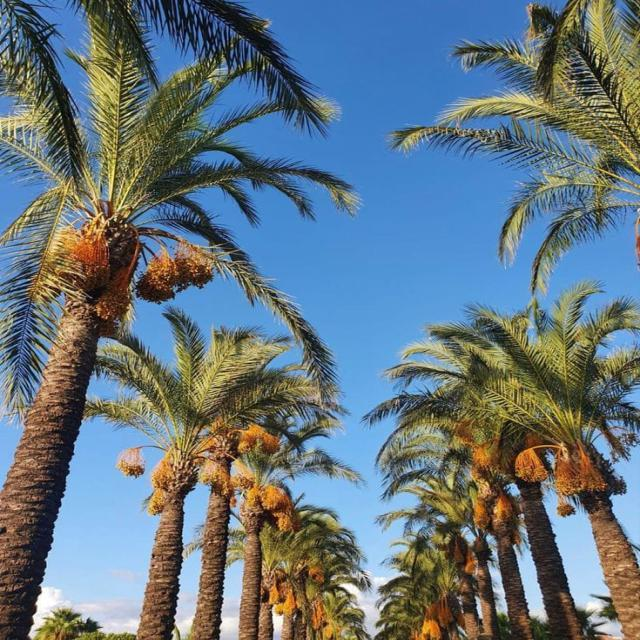Plam-Tree: (0, 71, 325, 637), (111, 289, 356, 640), (408, 325, 640, 640), (440, 13, 640, 299), (233, 368, 364, 640)
